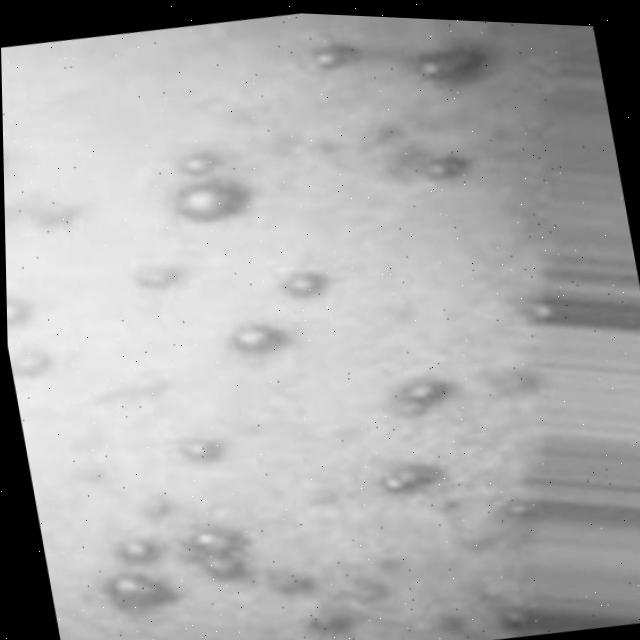Shingles: (182, 522, 254, 587), (173, 173, 248, 228), (415, 42, 487, 90), (105, 566, 173, 616), (392, 373, 454, 418), (379, 458, 442, 501), (229, 318, 284, 359), (269, 562, 317, 601), (420, 148, 470, 185), (343, 570, 390, 608), (307, 605, 357, 640), (311, 39, 360, 74), (176, 433, 223, 467), (282, 266, 326, 302), (176, 147, 221, 181), (134, 261, 180, 294), (9, 345, 48, 382), (116, 534, 157, 567), (499, 605, 535, 634), (501, 494, 535, 521), (528, 297, 557, 322), (7, 294, 28, 326)
